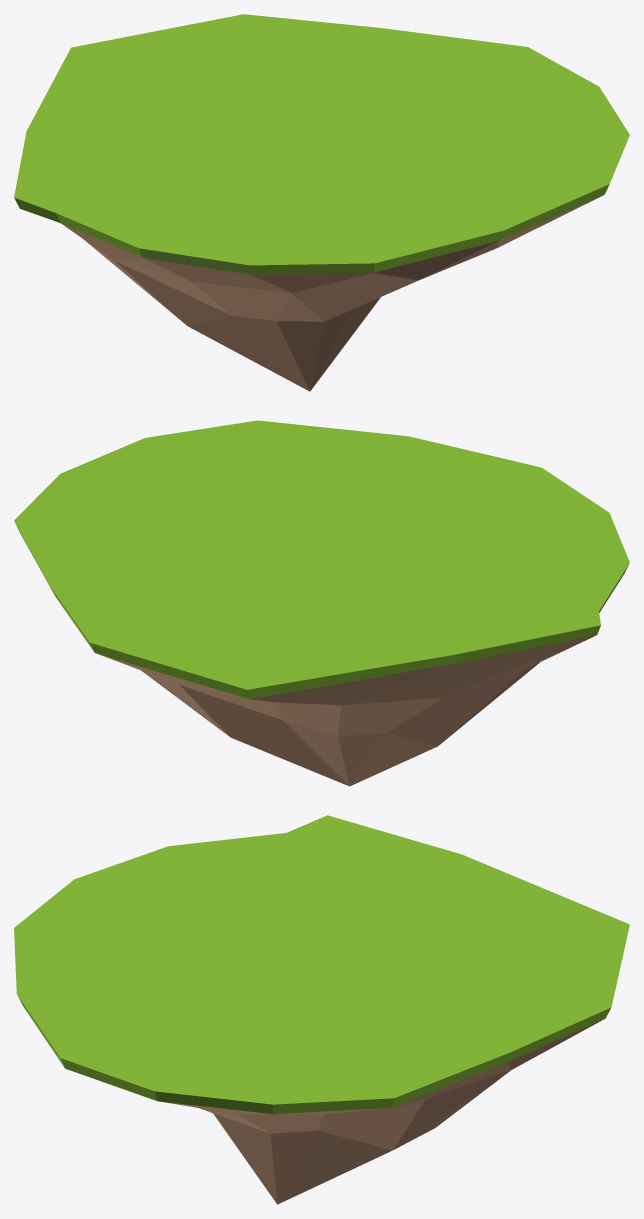
Rendered from plataforma.fbx.
3 views of the same model, one above another, from view 1: azimuth 30°, elevation 25°; view 2: azimuth 150°, elevation 25°; view 3: azimuth 270°, elevation 25° (orthographic). The views are drawn at different scales.
Visible parts, largest first — view 1: Cylinder.001, Cylinder; view 2: Cylinder.001, Cylinder; view 3: Cylinder.001, Cylinder.
Part boxes in pixels (x1=…): Cylinder.001: x1=14, y1=14, x2=629, y2=274; Cylinder: x1=61, y1=196, x2=601, y2=391; Cylinder.001: x1=14, y1=420, x2=629, y2=699; Cylinder: x1=97, y1=635, x2=595, y2=786; Cylinder.001: x1=14, y1=815, x2=629, y2=1114; Cylinder: x1=159, y1=1019, x2=603, y2=1204.
Bounding box in the file's own units: 2533 × 1052 × 2331.
Materials: 1 (1 with a texture image).
